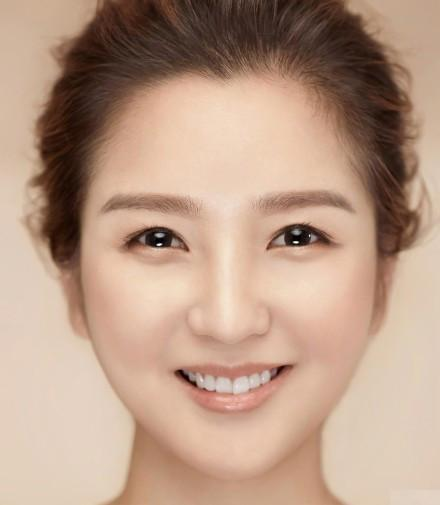unmask: (77, 107, 382, 457)
